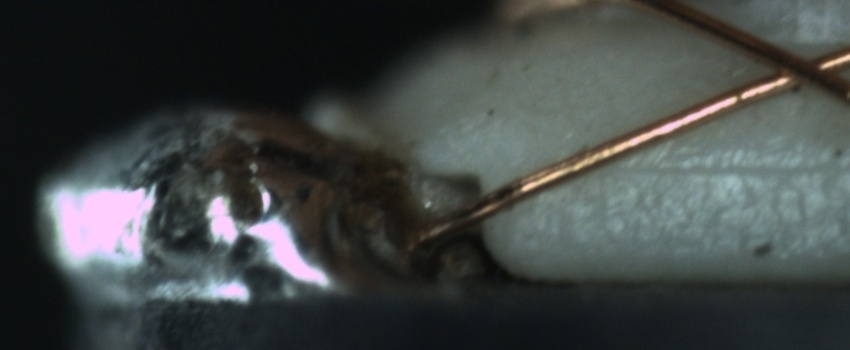CL: (745, 38, 846, 99)
DL: (608, 135, 847, 200)
